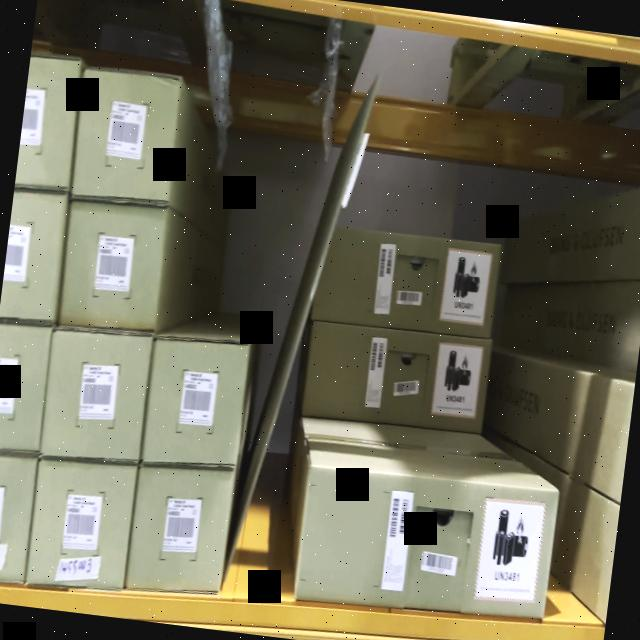box: (299, 466, 556, 622), (305, 321, 492, 426), (70, 73, 178, 203), (126, 466, 232, 594), (28, 460, 135, 586), (56, 206, 168, 326), (42, 334, 150, 456), (143, 340, 246, 467)
